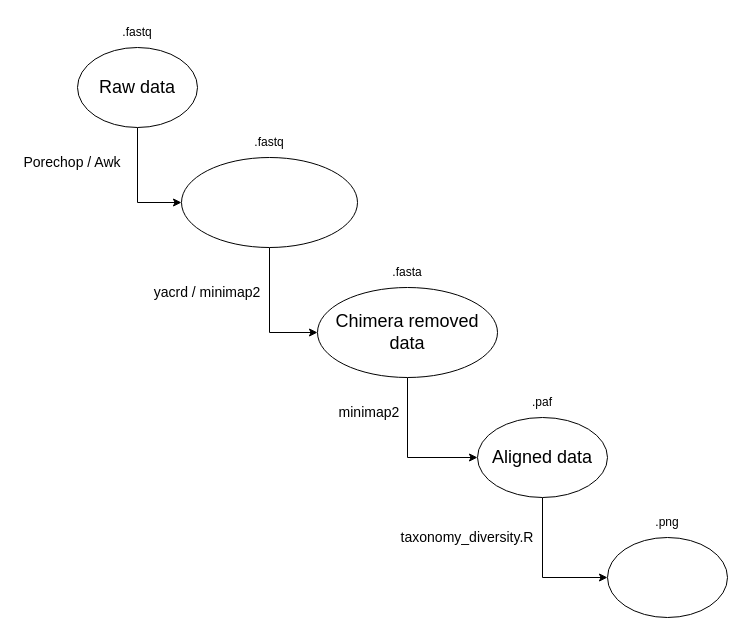
Image size: 745x635. Some labels were removed from this diagram. The box of each missing label's shape, as (x1, y1, x2, y2) in pixels:
Taxonomy plots: (606, 536, 728, 618)
Trimmed/Filtered data: (180, 156, 358, 248)
